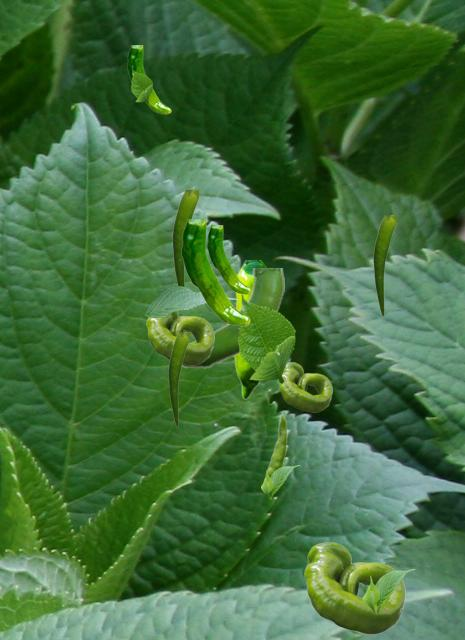green_chili: (182, 268, 283, 368), (304, 542, 404, 633), (181, 219, 249, 325), (233, 260, 267, 398), (146, 312, 213, 364), (127, 45, 170, 113), (207, 225, 250, 293), (278, 362, 331, 411), (172, 190, 197, 285), (373, 215, 395, 315), (168, 332, 188, 426), (264, 413, 286, 478)
